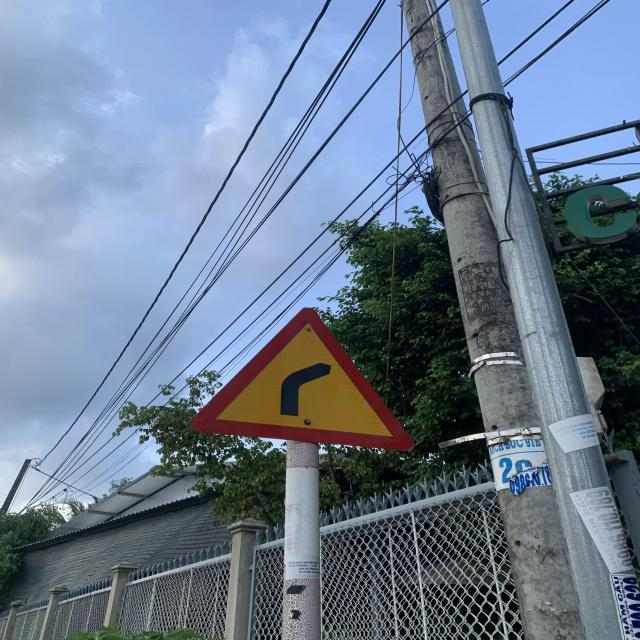Duong_Nguoi_Di_Bo_Cat_Ngang: (193, 309, 415, 453)
